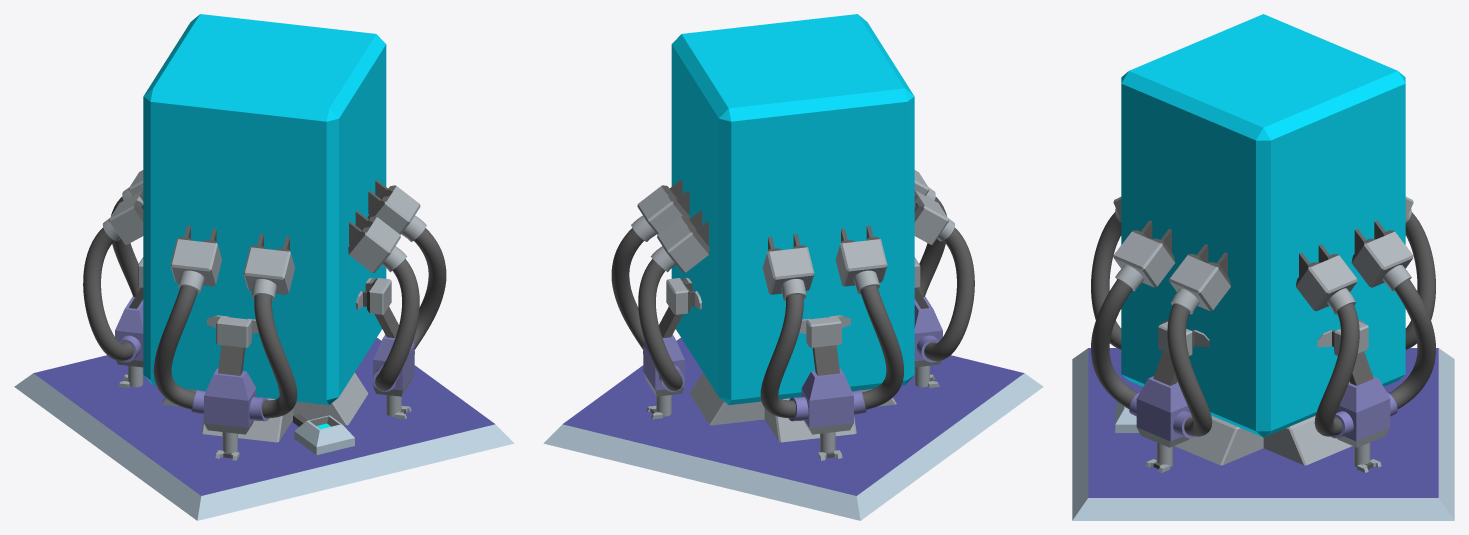
Rendered from Reservoir9.fbx.
3 views of the same model, side by side, from view 1: azimuth 30°, elevation 25°; view 2: azimuth 150°, elevation 25°; view 3: azimuth 270°, elevation 25° (orthographic). The views are drawn at different scales.
Visible parts, largest first — view 1: pCube116, foundation_9, pCylinder105 (×3), pCylinder106 (×3), pCube155 (×3), pCube156 (×2), pCube162, installation9, pCube119 (×2), alch_base9, pCube161, pCube163; view 2: pCube116, foundation_9, pCylinder106 (×3), pCylinder105 (×3), pCube156 (×3), pCube155 (×2), pCube163, installation9, pCube119 (×2), pCube164, pCube162; view 3: pCube116, foundation_9, pCylinder106 (×3), pCylinder105 (×3), pCube155 (×2), pCube156 (×2), installation9, pCube164, pCube161, pCube119 (×2), alch_base9.
Part boxes in pixels (box(x1,y1,x2,y2)): pCube116: box(143, 14, 386, 405); foundation_9: box(14, 338, 514, 520); pCylinder105 (×3): box(83, 215, 446, 421); pCylinder106 (×3): box(111, 187, 419, 414); pCube155 (×3): box(109, 179, 420, 294); pCube156 (×2): box(170, 210, 400, 286); pCube162: box(204, 345, 256, 434); installation9: box(161, 372, 368, 442); pCube119 (×2): box(207, 277, 391, 347); alch_base9: box(294, 415, 354, 455); pCube161: box(373, 306, 414, 396); pCube163: box(115, 287, 143, 367); pCube116: box(671, 14, 914, 405); foundation_9: box(543, 338, 1043, 520); pCylinder106 (×3): box(611, 215, 974, 421); pCylinder105 (×3): box(638, 187, 946, 414); pCube156 (×3): box(637, 179, 948, 294); pCube155 (×2): box(657, 210, 887, 286); pCube163: box(801, 345, 853, 434); installation9: box(689, 372, 896, 442); pCube119 (×2): box(666, 277, 850, 347); pCube164: box(643, 306, 684, 396); pCube162: box(914, 287, 942, 367); pCube116: box(1121, 14, 1405, 437); foundation_9: box(1072, 348, 1454, 520); pCylinder106 (×3): box(1091, 208, 1435, 438); pCylinder105 (×3): box(1091, 208, 1435, 438); pCube155 (×2): box(1169, 220, 1413, 311); pCube156 (×2): box(1113, 220, 1357, 311); installation9: box(1174, 415, 1352, 465); pCube164: box(1336, 351, 1390, 447); pCube161: box(1136, 351, 1190, 447); pCube119 (×2): box(1158, 320, 1368, 355); alch_base9: box(1115, 402, 1139, 432).
Bounding box in the file's own units: 2 × 2.13 × 2.
